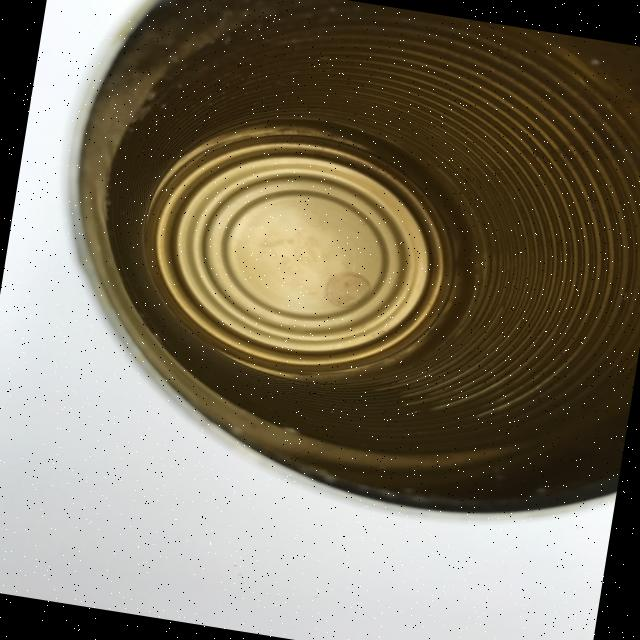metal: (27, 0, 640, 539)
